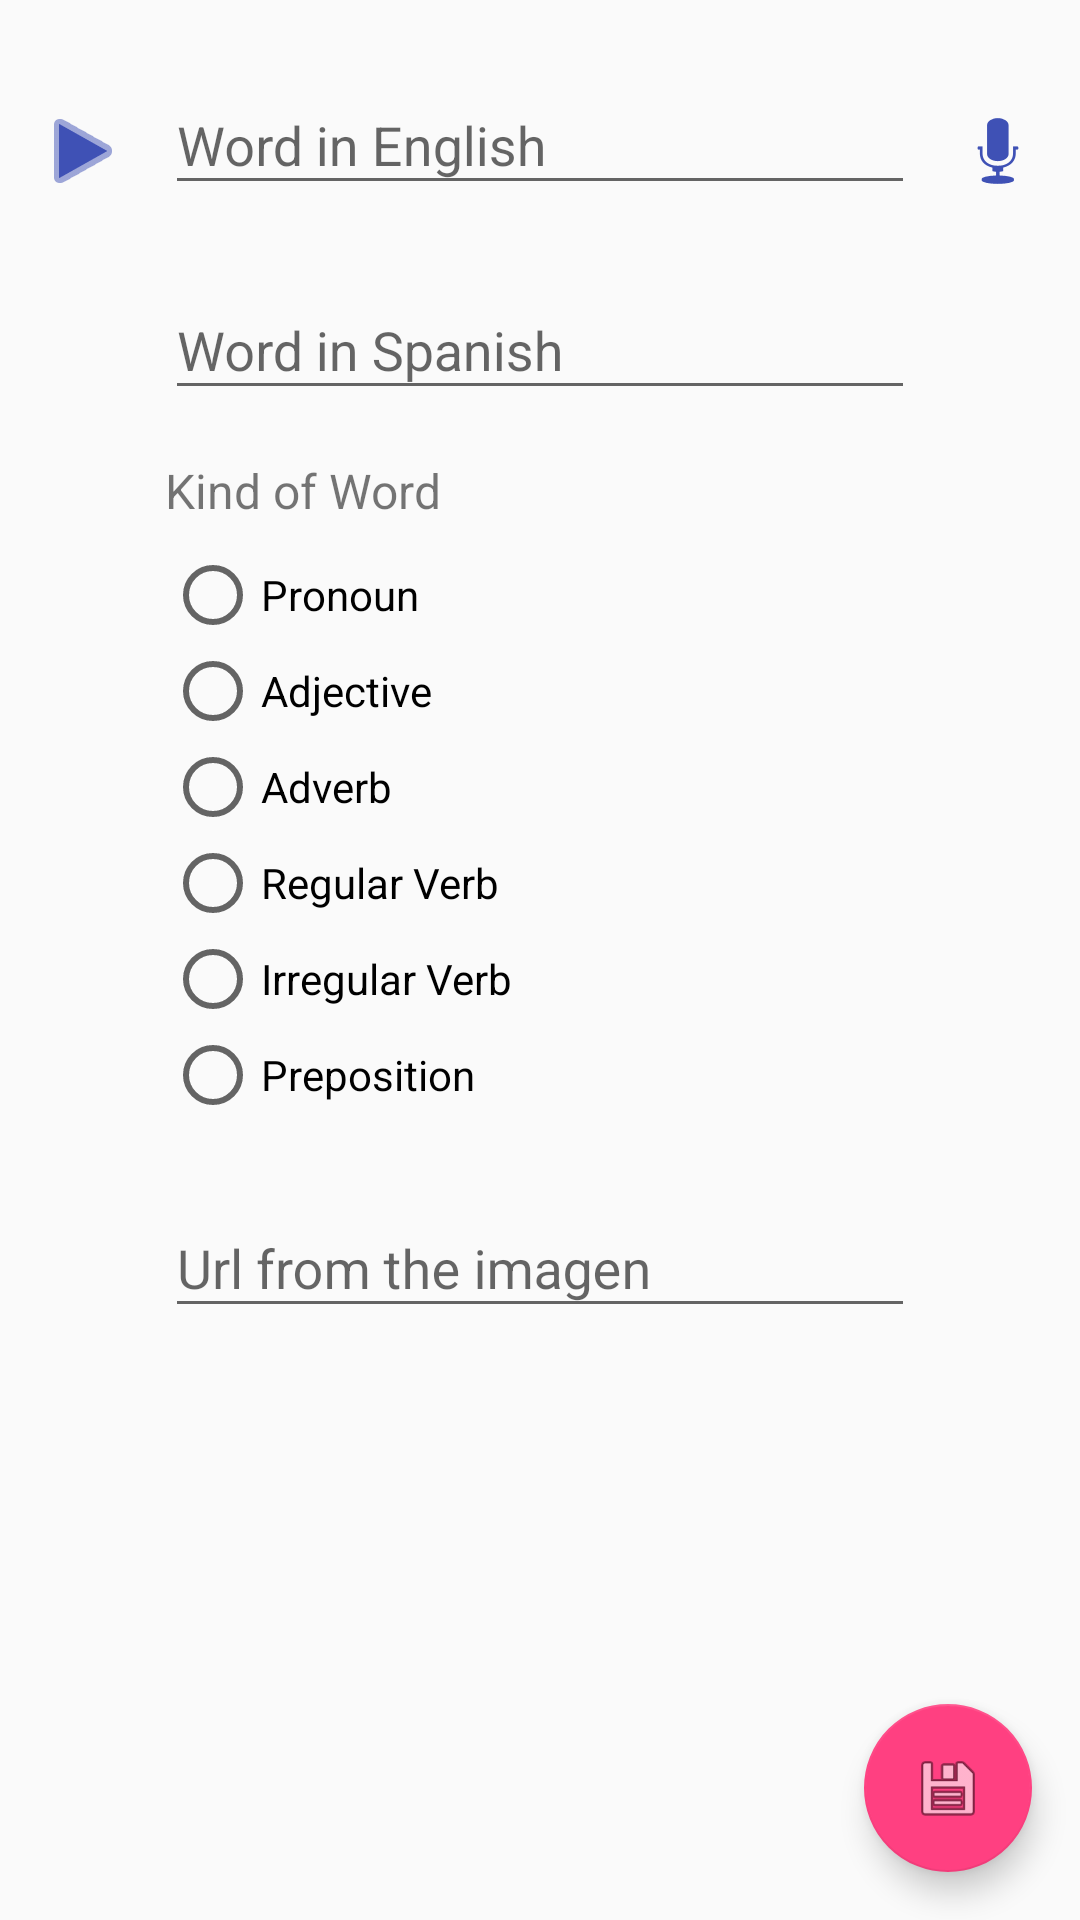

Icon click points for this 1080×1920 phone screenshot, format point (x, y):
Play to Listening Sound: point (83, 151)
Save New Word: point (948, 1788)
